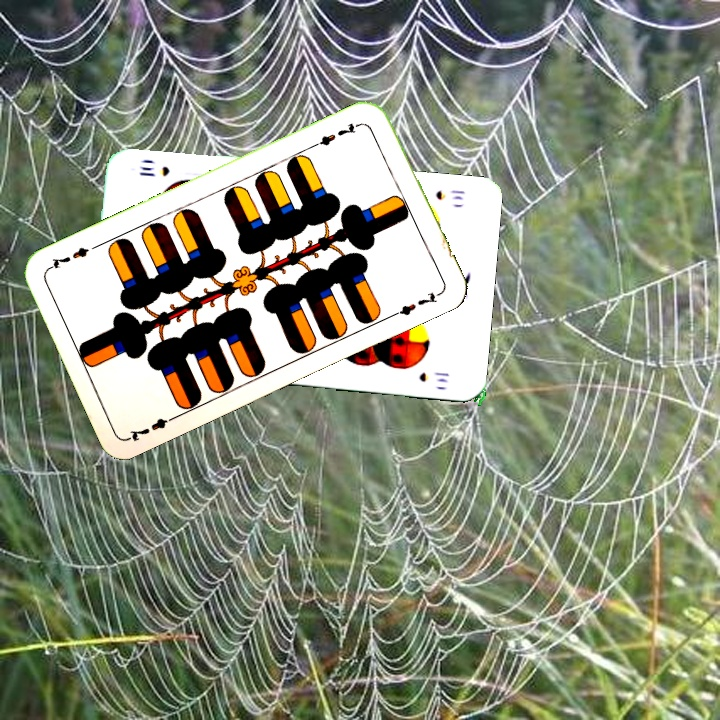E7: (125, 411, 180, 444), (309, 118, 365, 150)
S10: (432, 186, 467, 203)
